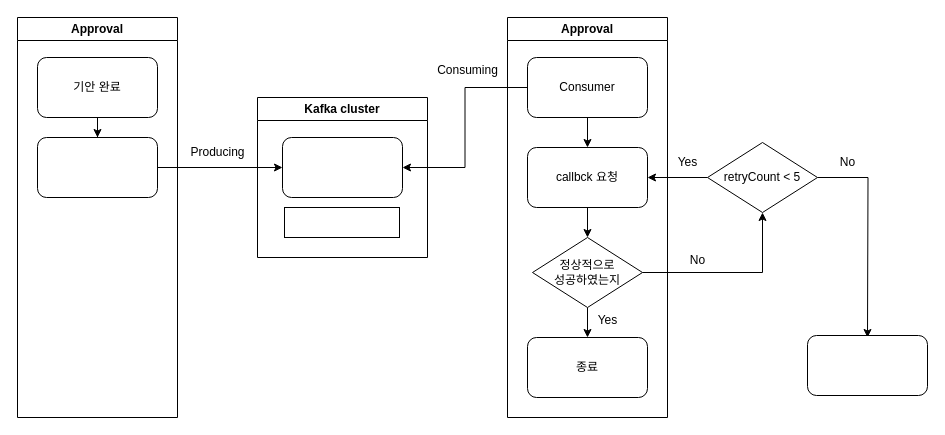
This 945x435 diagram has some shape labels left out. Here are the shapes that lost their labels. From the top down, the centre of each, then its label:
point (97, 167): Producer
point (342, 167): Topic
point (342, 222): Broker
point (867, 365): 별도 처리
